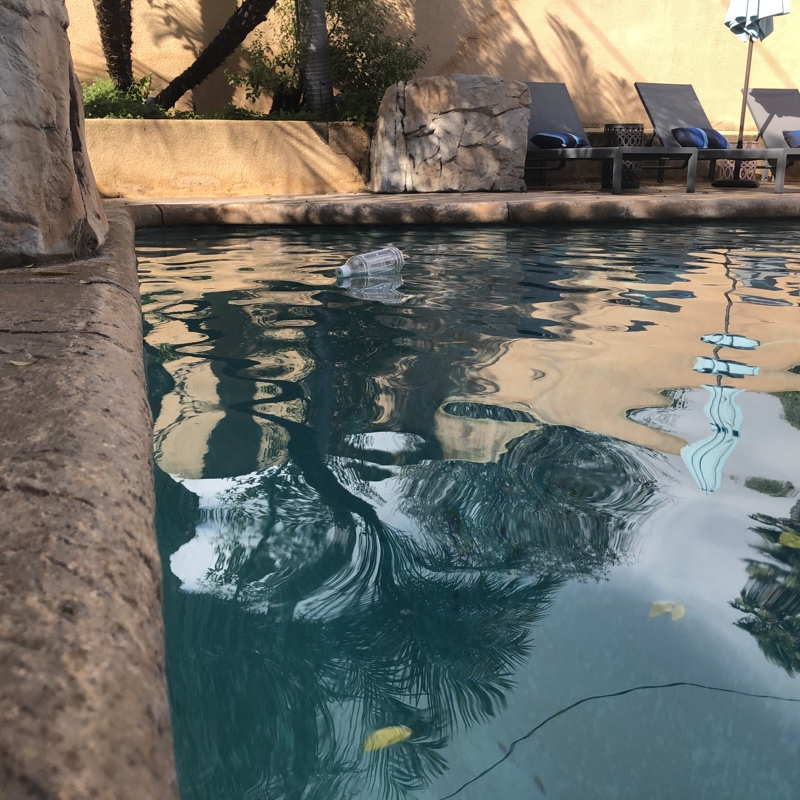Plastic Bottle: (332, 247, 408, 281)
